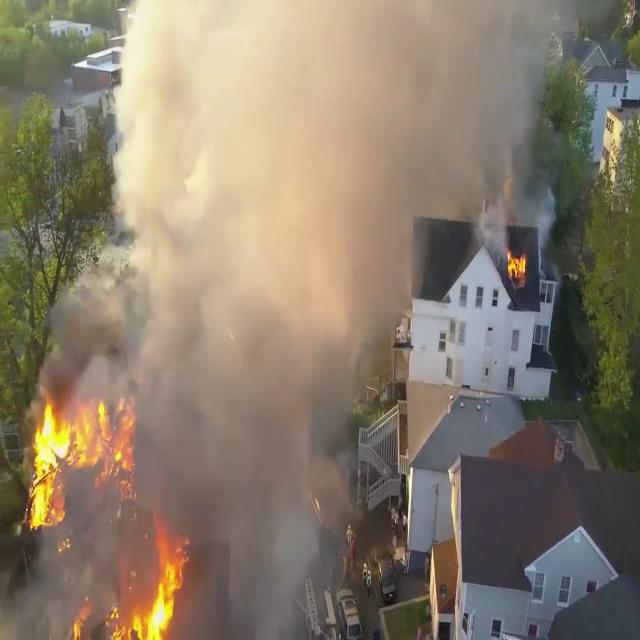Fire: (22, 392, 140, 532), (106, 530, 192, 640), (505, 243, 529, 284)
Smoke: (65, 2, 581, 440)
